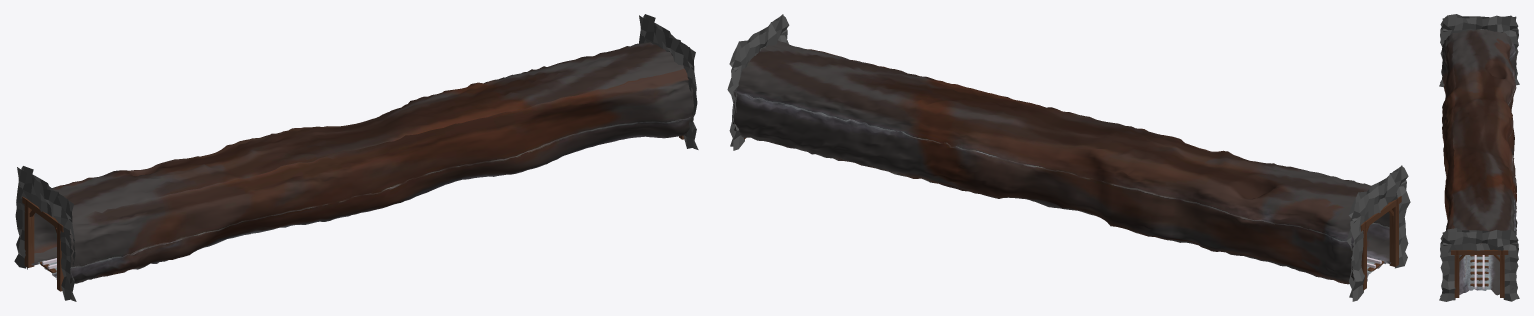
The model's file is track_02.fbx.
The picture shows the model from 3 angles, left to right: view 1: azimuth 30°, elevation 25°; view 2: azimuth 150°, elevation 25°; view 3: azimuth 270°, elevation 25°; orthographic projection. The views are drawn at different scales.
Parts seen in each view (by area): view 1: Tunnel, WallBack, WallBack.001, Gate, Wall.001, Wall; view 2: Tunnel, WallBack, WallBack.001, Gate, Wall, Wall.001; view 3: Tunnel, Wall.001, Wall, GateExit, Plank, WallBack.001, WallBack, Track.
Boxes of the visible parts, bbox=[...] form: Tunnel: bbox=[31, 42, 693, 283]; WallBack: bbox=[14, 167, 71, 300]; WallBack.001: bbox=[639, 15, 693, 148]; Gate: bbox=[22, 196, 63, 291]; Wall.001: bbox=[640, 14, 698, 149]; Wall: bbox=[19, 166, 76, 301]; Tunnel: bbox=[733, 40, 1390, 284]; WallBack: bbox=[1350, 165, 1410, 301]; WallBack.001: bbox=[731, 14, 789, 150]; Gate: bbox=[1360, 196, 1401, 290]; Wall: bbox=[1346, 165, 1406, 297]; Wall.001: bbox=[727, 14, 787, 146]; Tunnel: bbox=[1441, 29, 1517, 295]; Wall.001: bbox=[1439, 229, 1518, 301]; Wall: bbox=[1439, 15, 1518, 87]; GateExit: bbox=[1451, 249, 1508, 297]; Plank: bbox=[1470, 255, 1488, 286]; WallBack.001: bbox=[1440, 228, 1519, 300]; WallBack: bbox=[1440, 14, 1519, 84]; Track: bbox=[1474, 255, 1484, 289].
Bounding box in the file's own units: 5088 × 779 × 798.
